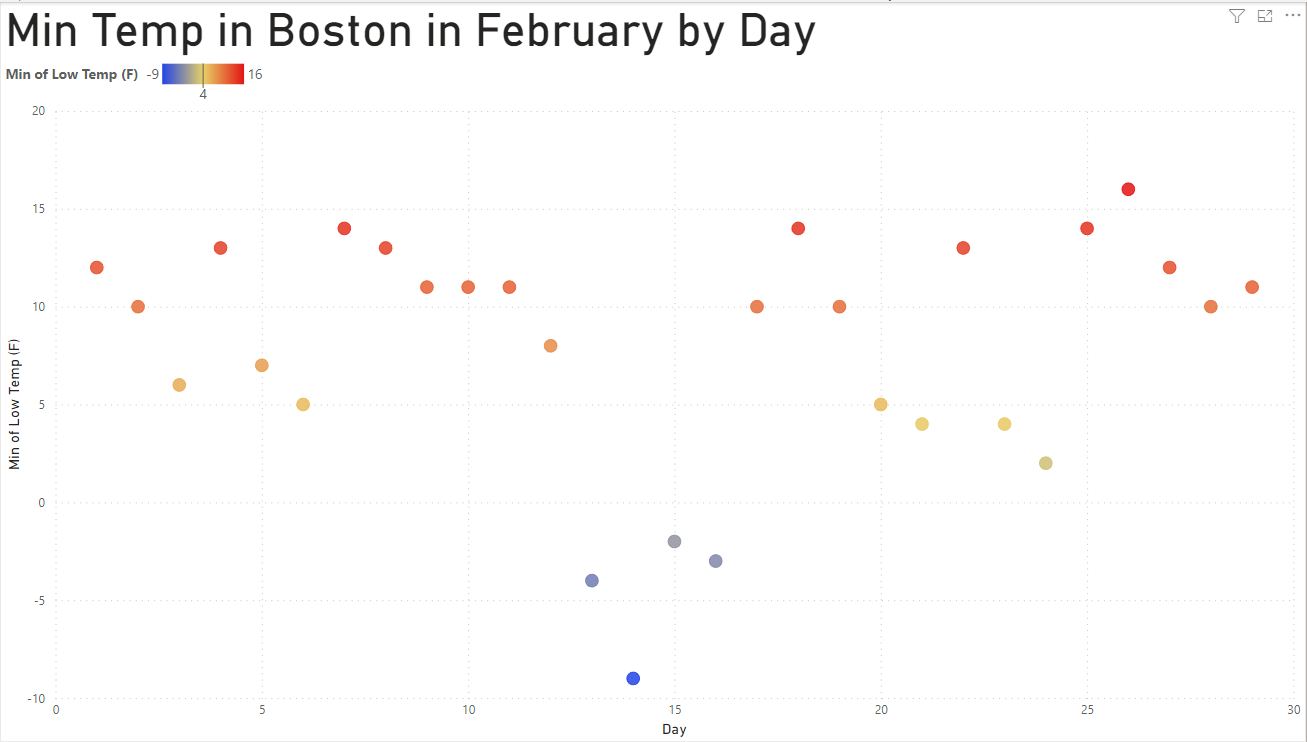

Layout of this report page (visuals, bound fields, positions):
{"tool":"powerbi","page":{"name":"Page 1","canvas":[1280,720],"ordinal":0},"visuals":[{"type":"scatterChart","title":"Min Temp in Boston in February by Day","fields":{"X":["Boston weather_clean.Year Hierarchy.Day"],"Y":["Boston weather_clean.Low Temp (F)"]},"box":[9.7,0,1270.3,719.8],"z":0}]}

Visuals, with their boxes on the page's 1280x720 design canvas (x1, y1, x2, y2). These are canvas units, not pixel positions in the 1307x742 screenshot, which may show the page scaled, cropped or inside an application window:
"Min Temp in Boston in February by Day" scatterChart: bbox=[10, 0, 1280, 720]
